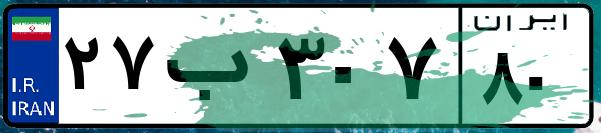0: (330, 28, 385, 110), (525, 38, 570, 115)
2: (57, 26, 110, 100)
3: (270, 28, 330, 110)
7: (385, 28, 445, 110), (110, 28, 158, 98)
8: (475, 38, 525, 113)
ب: (158, 20, 270, 120)
